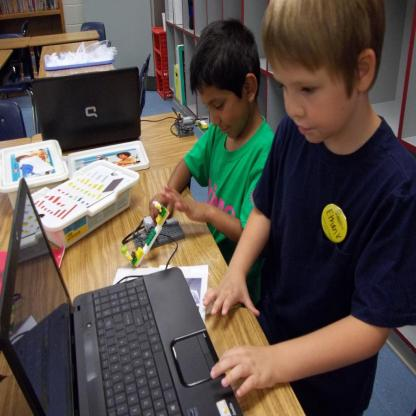board: (0, 178, 243, 416), (15, 62, 144, 162)
